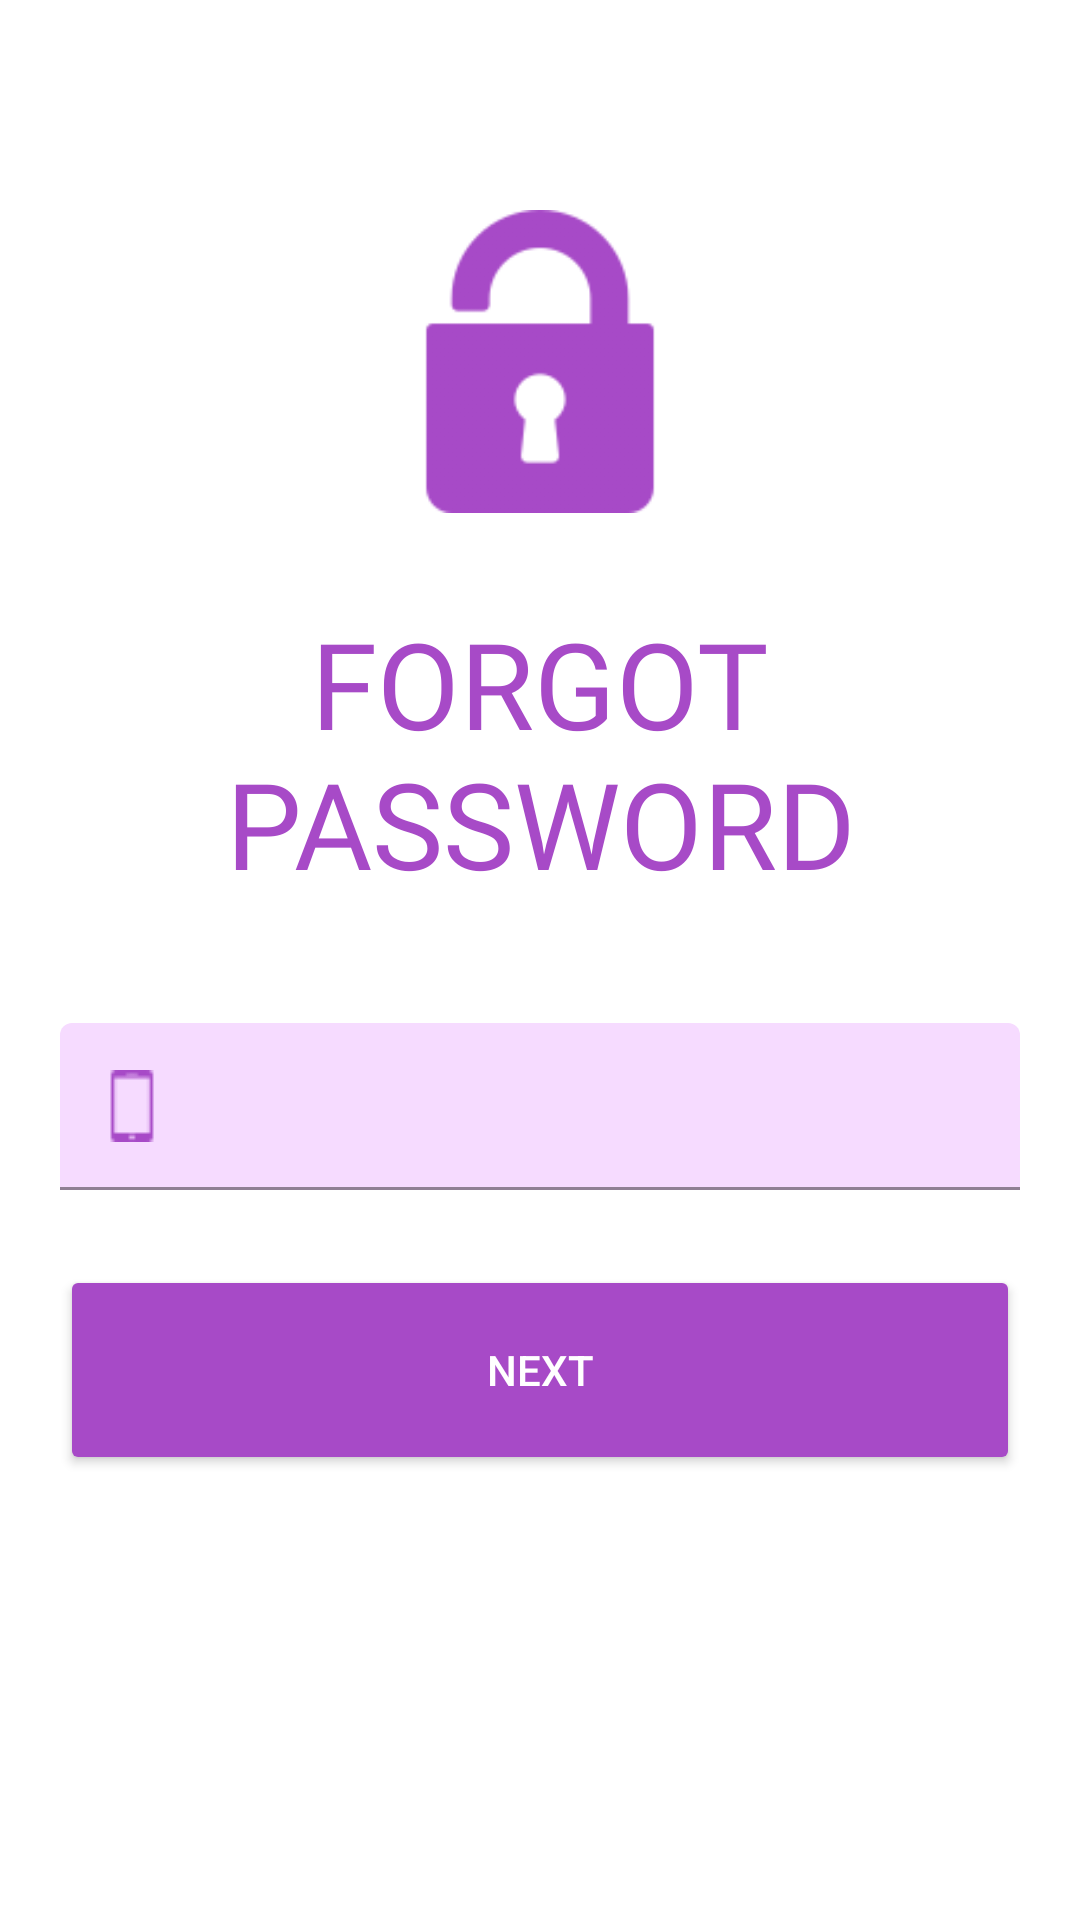

Where icons sit on this 1080px×1920px app screen, as box(x1, y1, x2, y2):
lock: box(426, 210, 654, 513)
